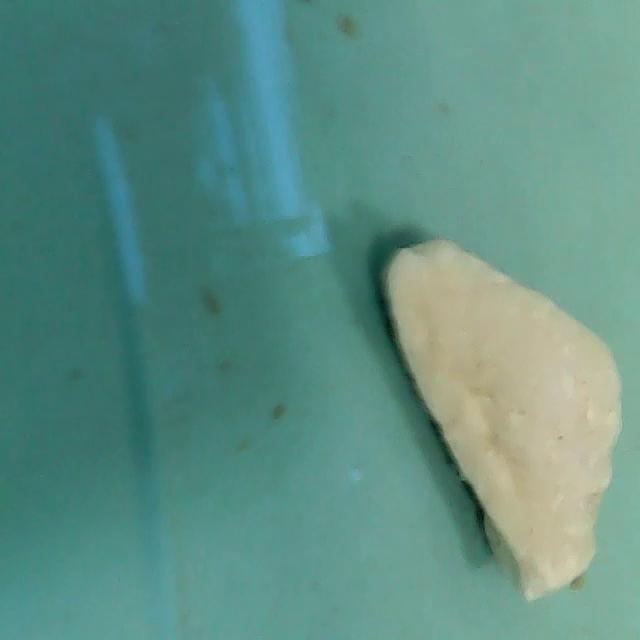rock: (373, 221, 630, 607)
